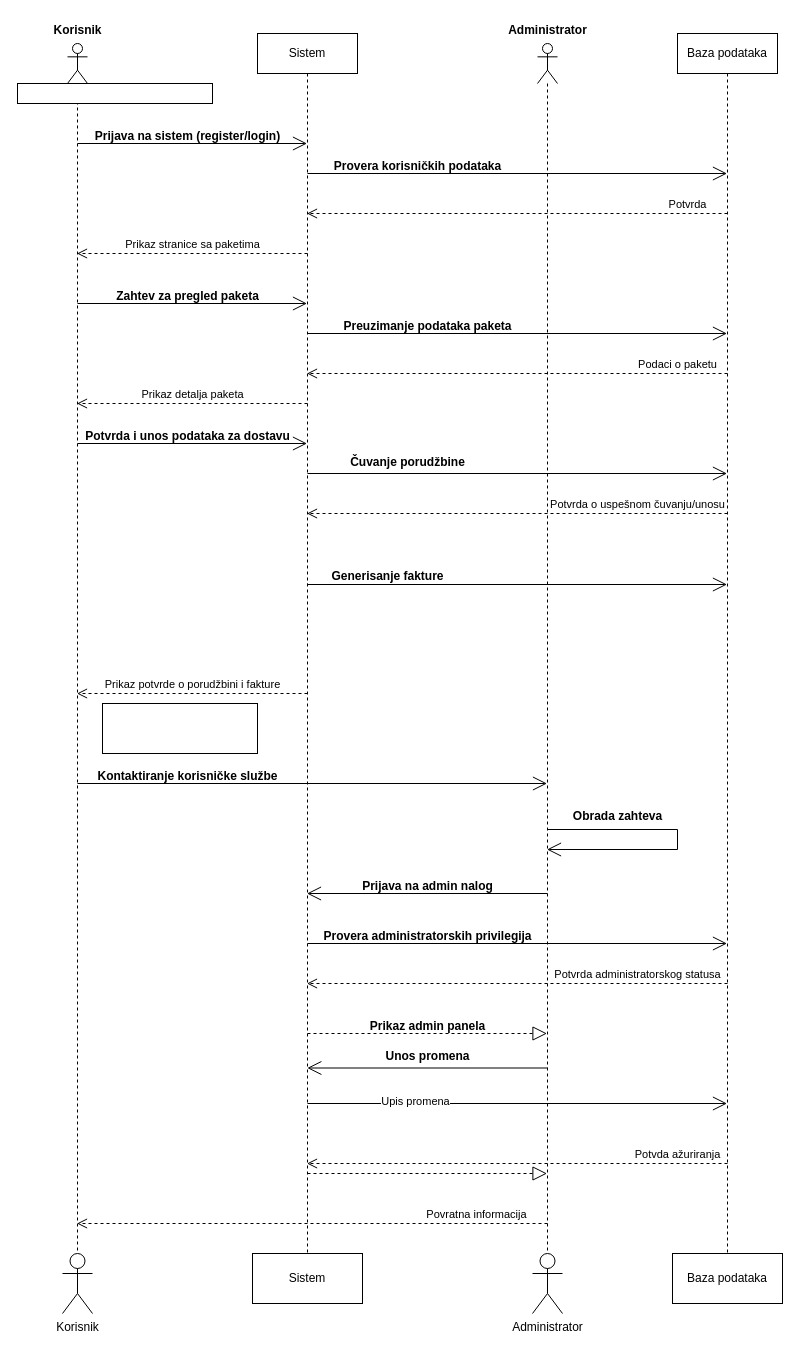
This 800x1351 diagram has some shape labels left out. The box of each missing label's shape, as (x1, y1, x2, y2) in pixels:
Korisnik primećuje grešku u podacima za dostavu: (102, 702, 258, 754)
Korisnik želi da napravi porudžbinu: (16, 82, 212, 104)
